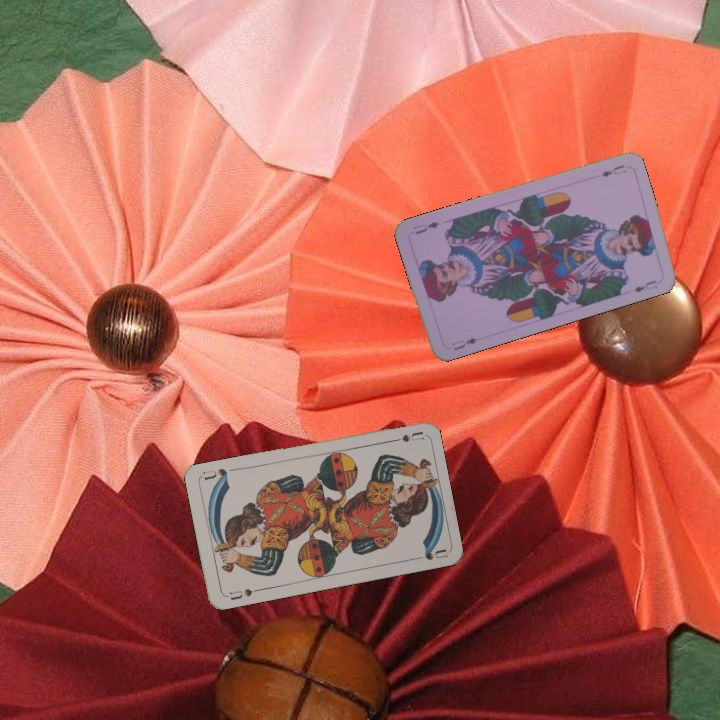EU: (448, 333, 480, 353), (597, 161, 628, 180)
SU: (384, 428, 425, 445), (225, 585, 262, 603)
